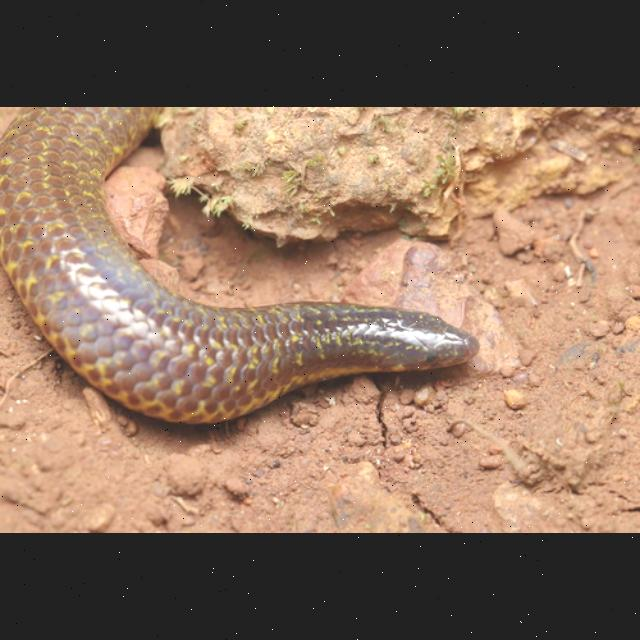snake: (0, 107, 490, 425)
